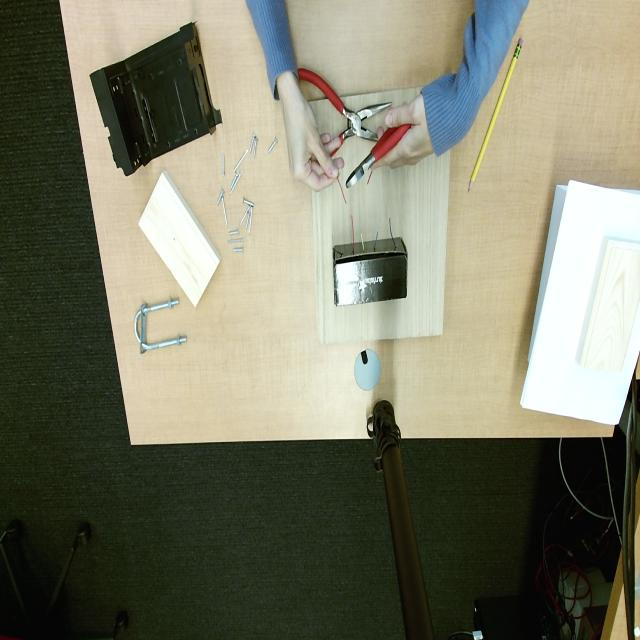pliers: (298, 69, 391, 146), (346, 124, 411, 189)
